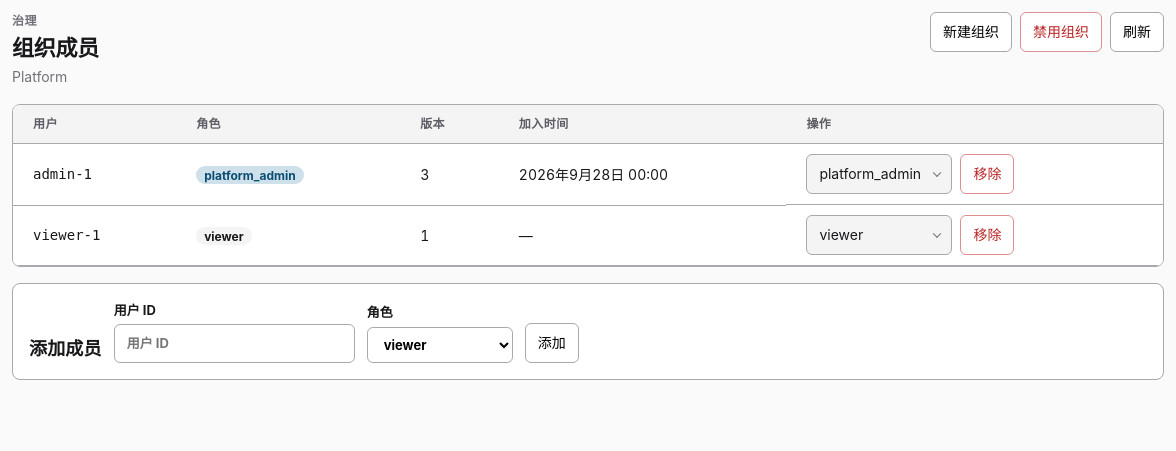
OrganizationPage › adds a member with the chosen role and reports success
Type "new-user" into the field named "userId" at (234, 343), box x1=114 y1=324 x2=355 y2=362
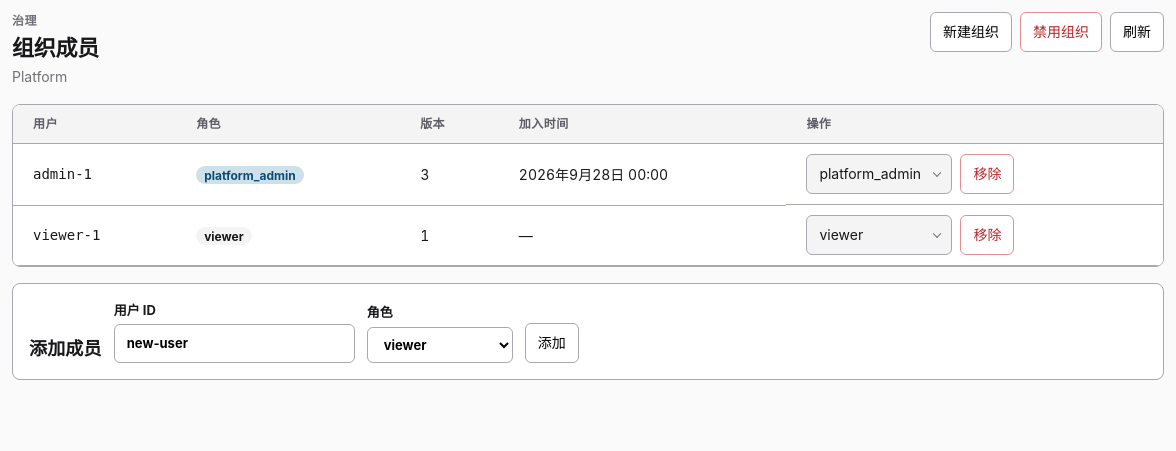
Select "deployer" in the dropdown named "role" at (440, 344), box x1=367 y1=326 x2=513 y2=362
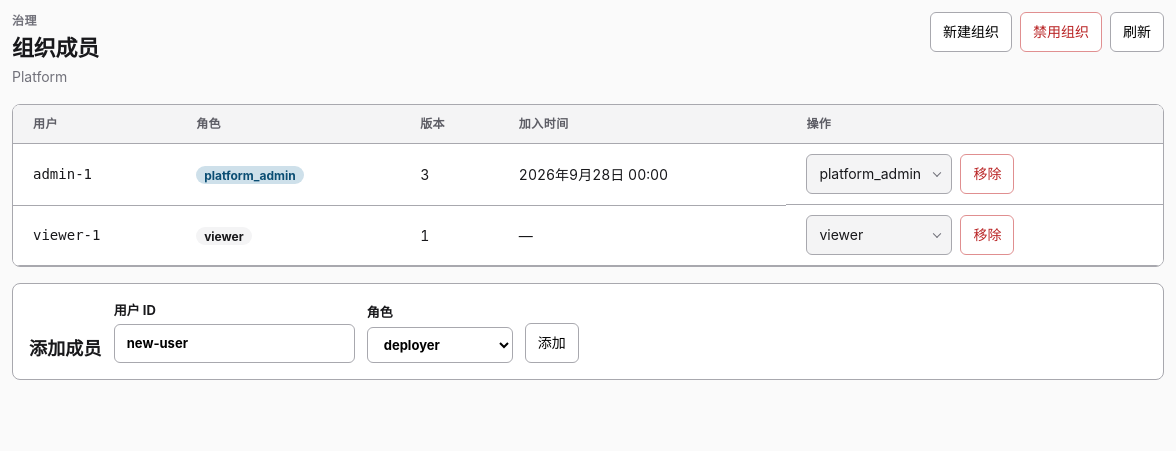
Submit the form, box x1=12 y1=283 x2=1164 y2=380
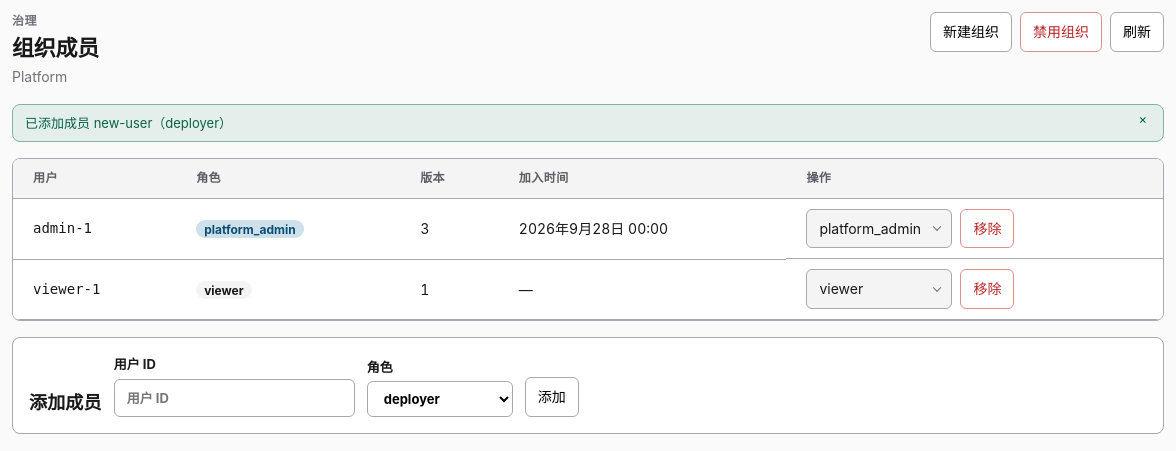
Check: the message with test id "organization-notice" shows "new-user", box x1=25 y1=115 x2=232 y2=131
